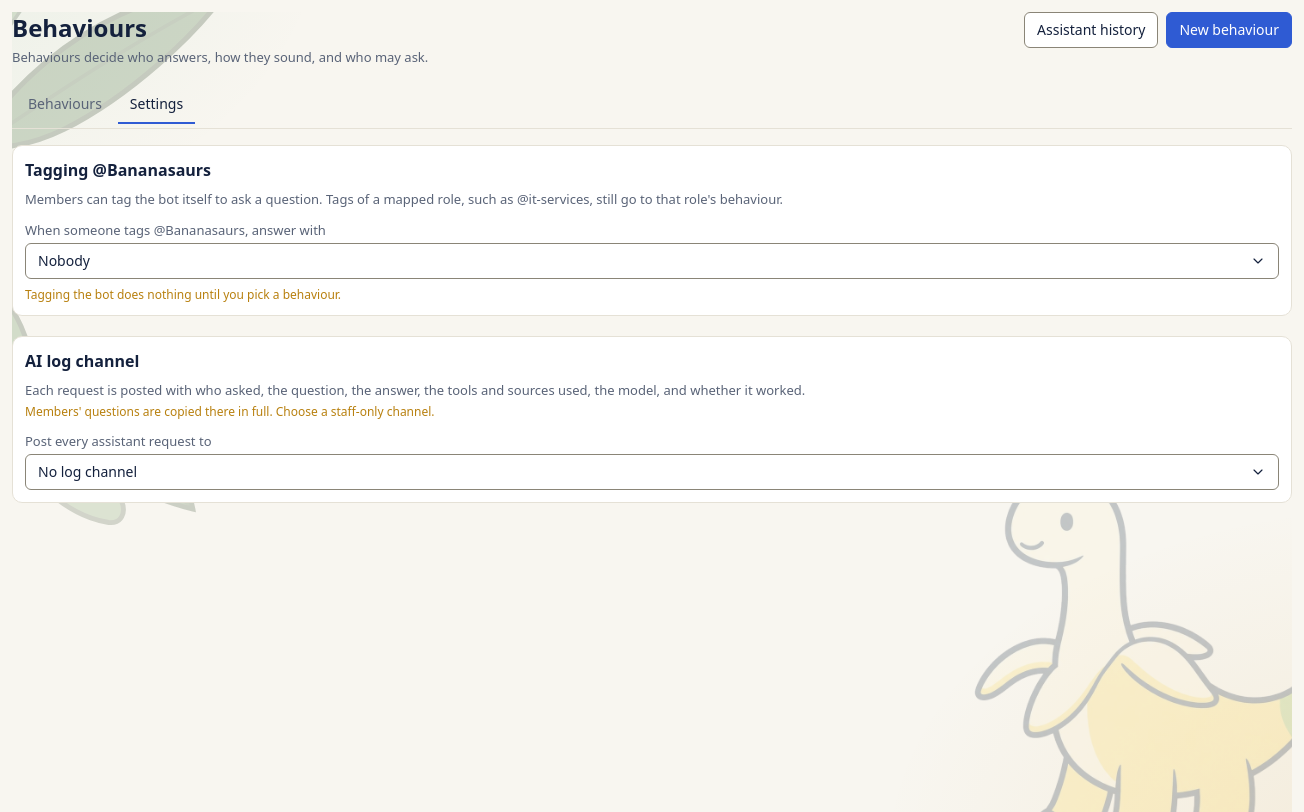
it: S1: Settings save advances the baseline without waiting for the refresh › a second Save while the refresh is pending sends no second PUT
Step 1. Click the dropdown named "Post every assistant request to" → (88, 472), box [25, 454, 1279, 490]
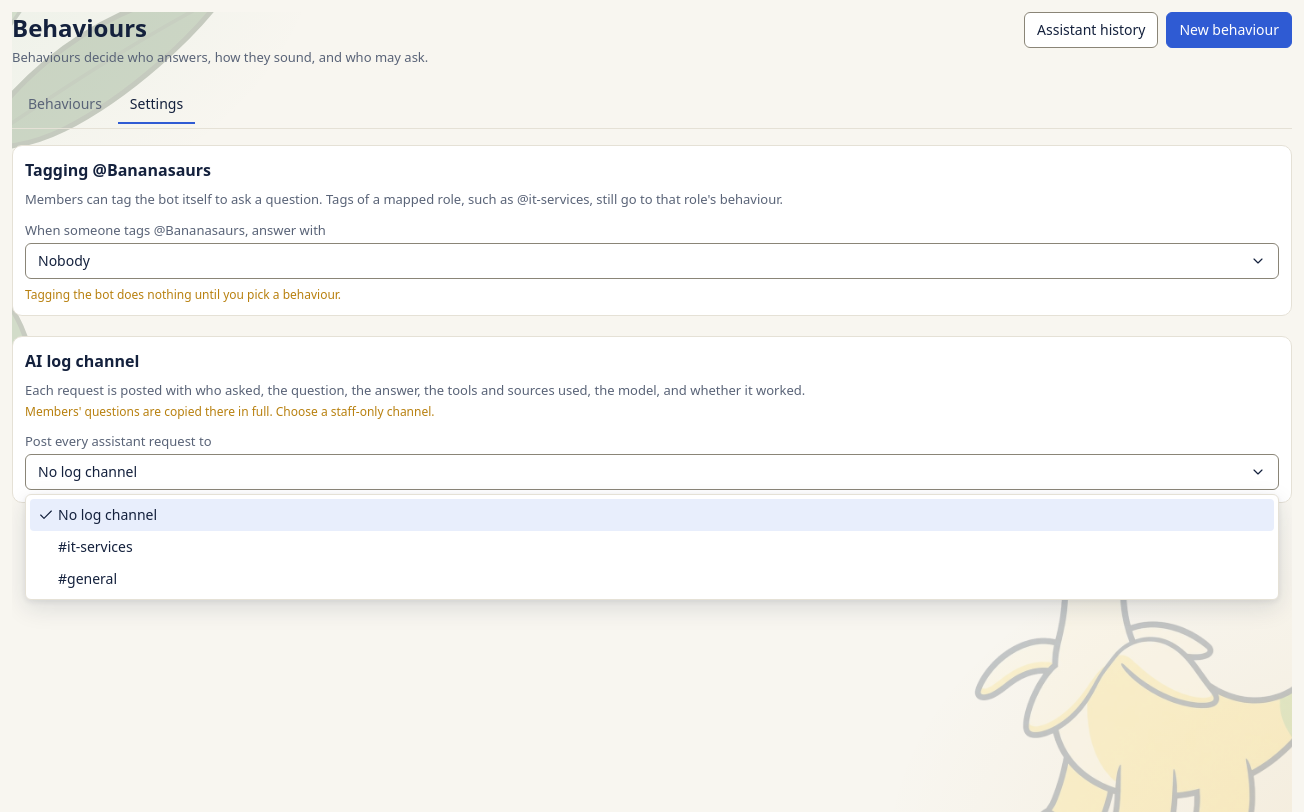
Step 2. Click the option "#it-services" → (95, 546), box [58, 537, 133, 556]
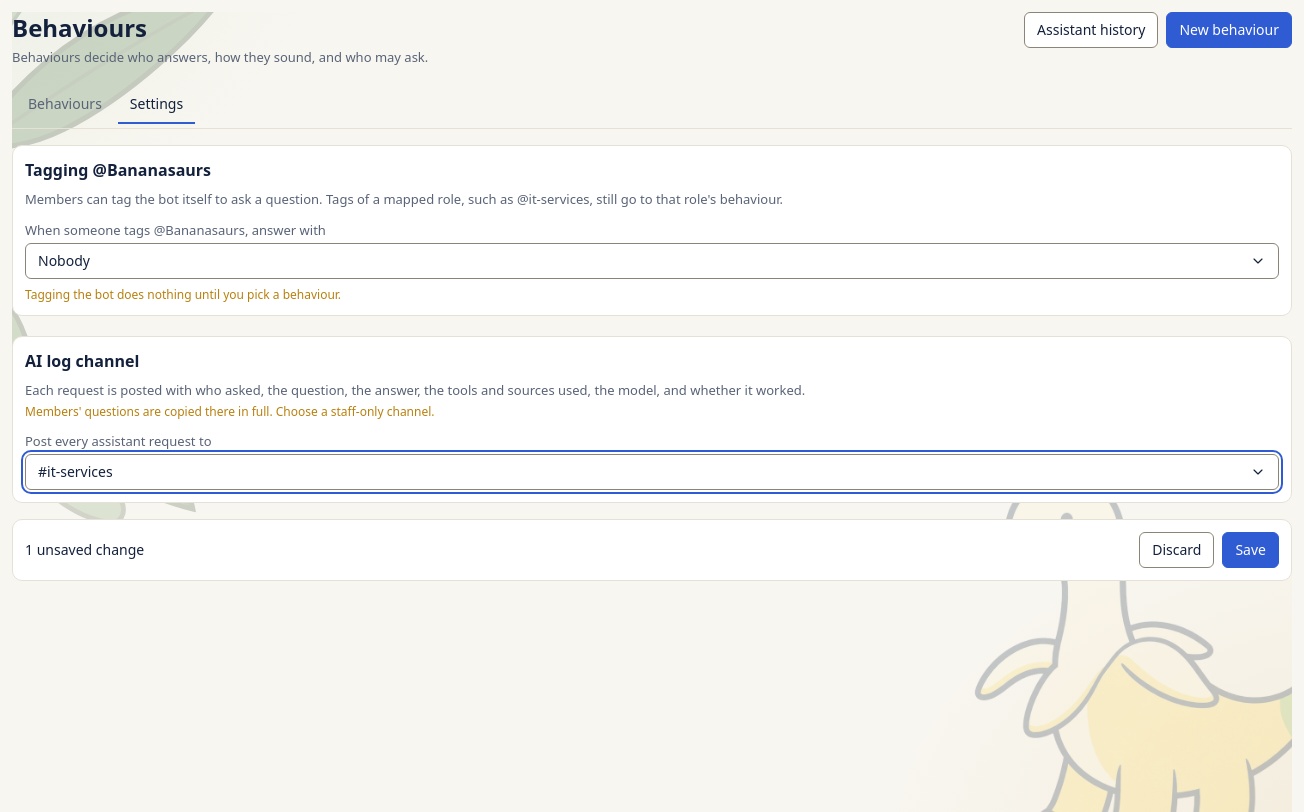
Step 3. Click the button "Save" → (1251, 550), box [1222, 532, 1279, 568]
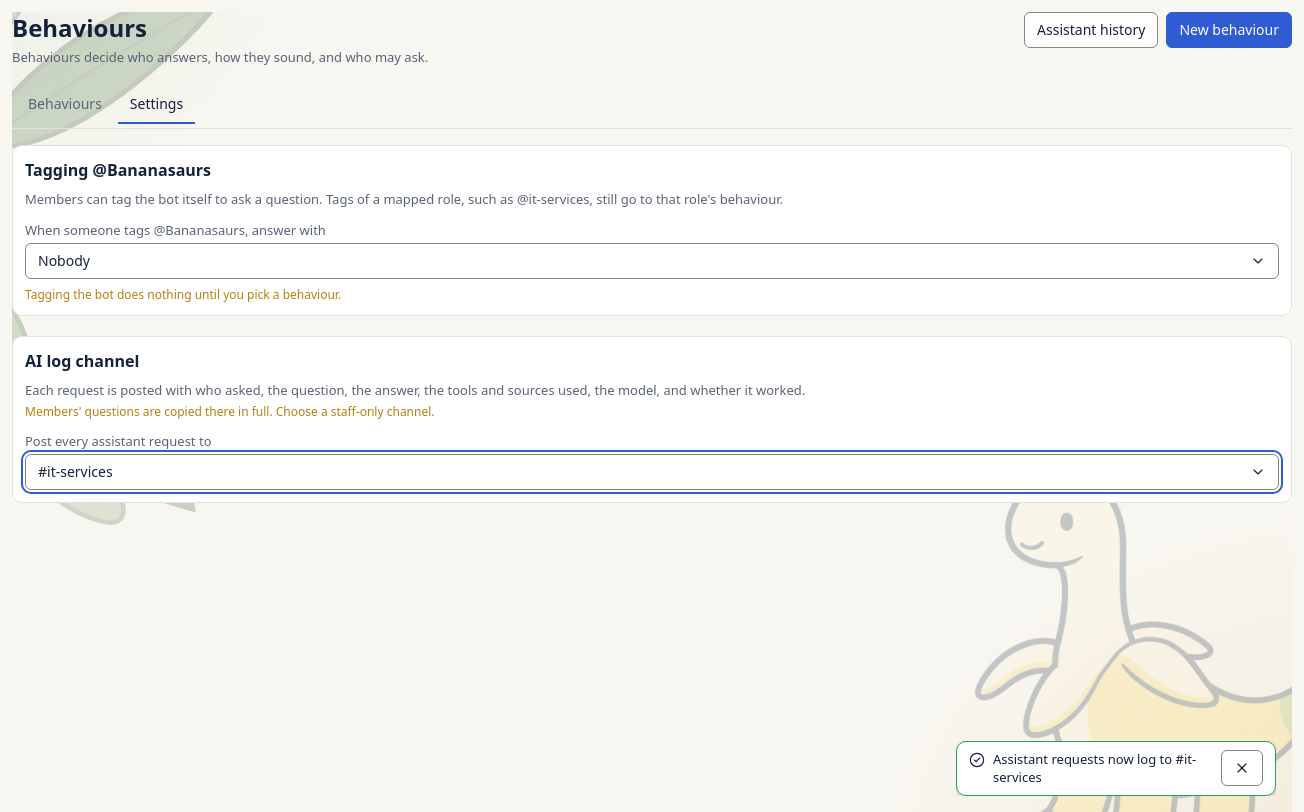
Expected: the dropdown named "Post every assistant request to" reads "#it-services", [25, 454, 1279, 490]
Expected: the text "Assistant requests now log to #it-services" is shown, [993, 750, 1213, 787]
